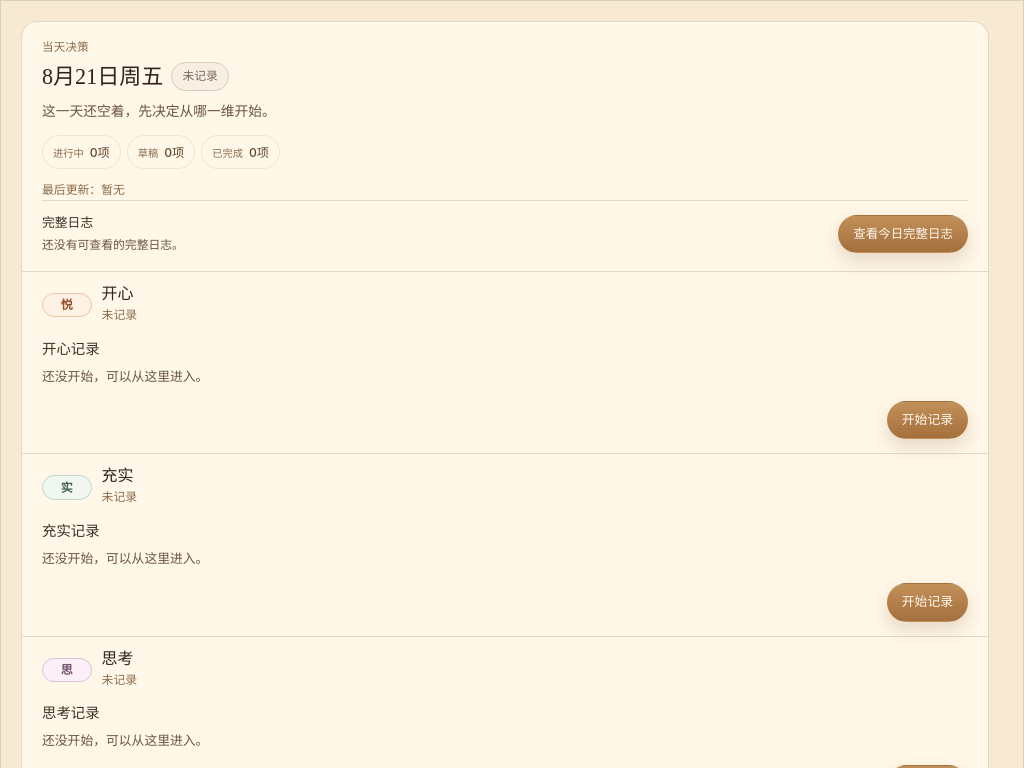
it: calendar day shell › prompts today's empty day with write journal and cancel actions
Click the button "查看今日完整日志" at (903, 234), box [838,215,968,253]
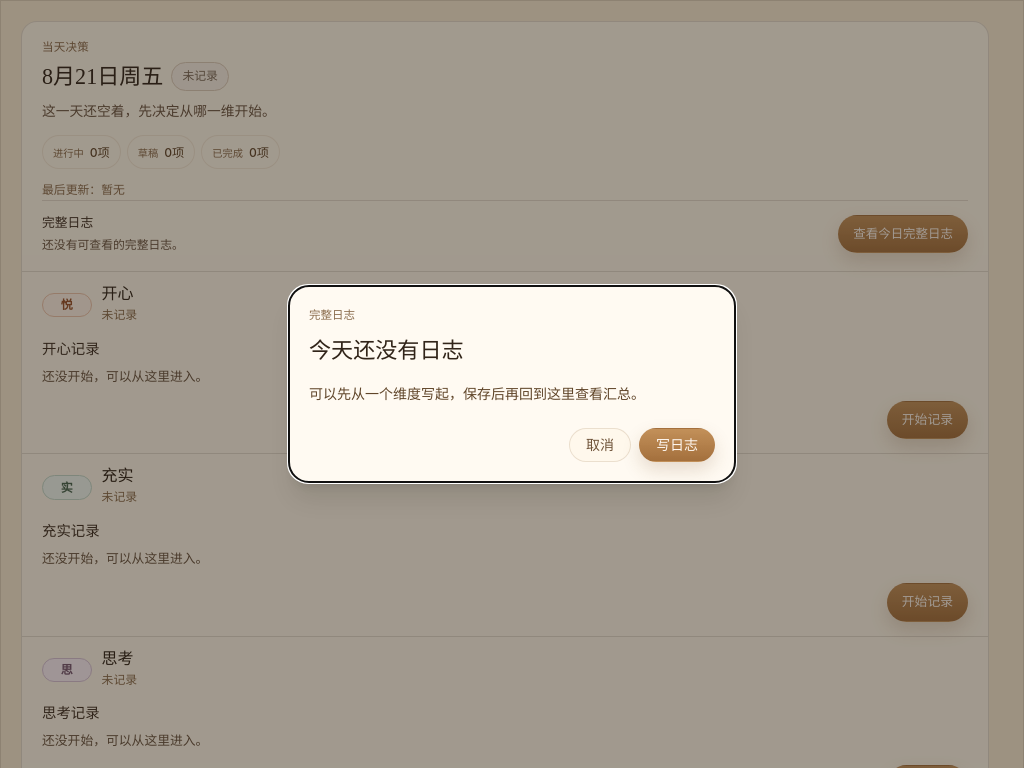
Expected: the text "可以先从一个维度写起，保存后再回到这里查看汇总。" is shown, [309,385,645,402]
Expected: the button "取消" is shown, [569,428,631,462]
